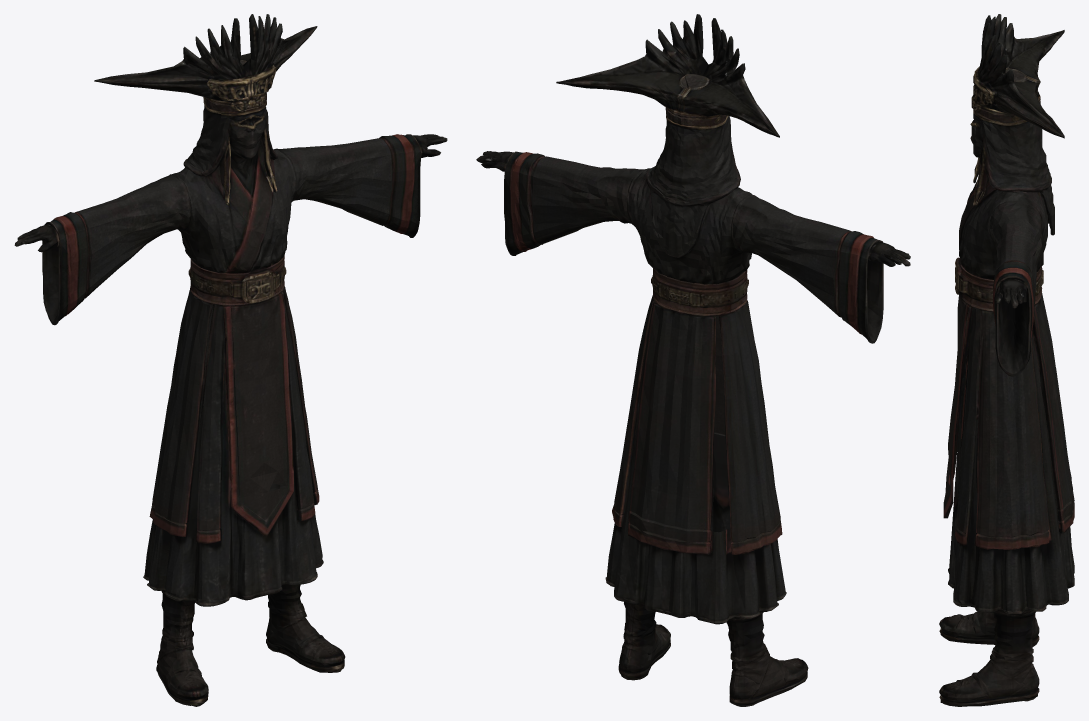
Rendered from tripo_convert_654a18f3-c039-4d7f-bd8a-b92c1b1623ca.obj.
The picture shows the model from 3 angles, left to right: view 1: azimuth 30°, elevation 25°; view 2: azimuth 150°, elevation 25°; view 3: azimuth 270°, elevation 25°; orthographic projection.
Visible parts, largest first — view 1: tripo_node_654a18f3-c039-4d7f-bd8a-b92c1b1623ca; view 2: tripo_node_654a18f3-c039-4d7f-bd8a-b92c1b1623ca; view 3: tripo_node_654a18f3-c039-4d7f-bd8a-b92c1b1623ca.
Boxes of the visible parts, x1,y1,x2,y2 form: tripo_node_654a18f3-c039-4d7f-bd8a-b92c1b1623ca: (14,14,447,706); tripo_node_654a18f3-c039-4d7f-bd8a-b92c1b1623ca: (476,14,910,706); tripo_node_654a18f3-c039-4d7f-bd8a-b92c1b1623ca: (939,14,1074,706).
Bounding box in the file's own units: 0.6726 × 0.9754 × 0.184.
1 material, 1 textured.
